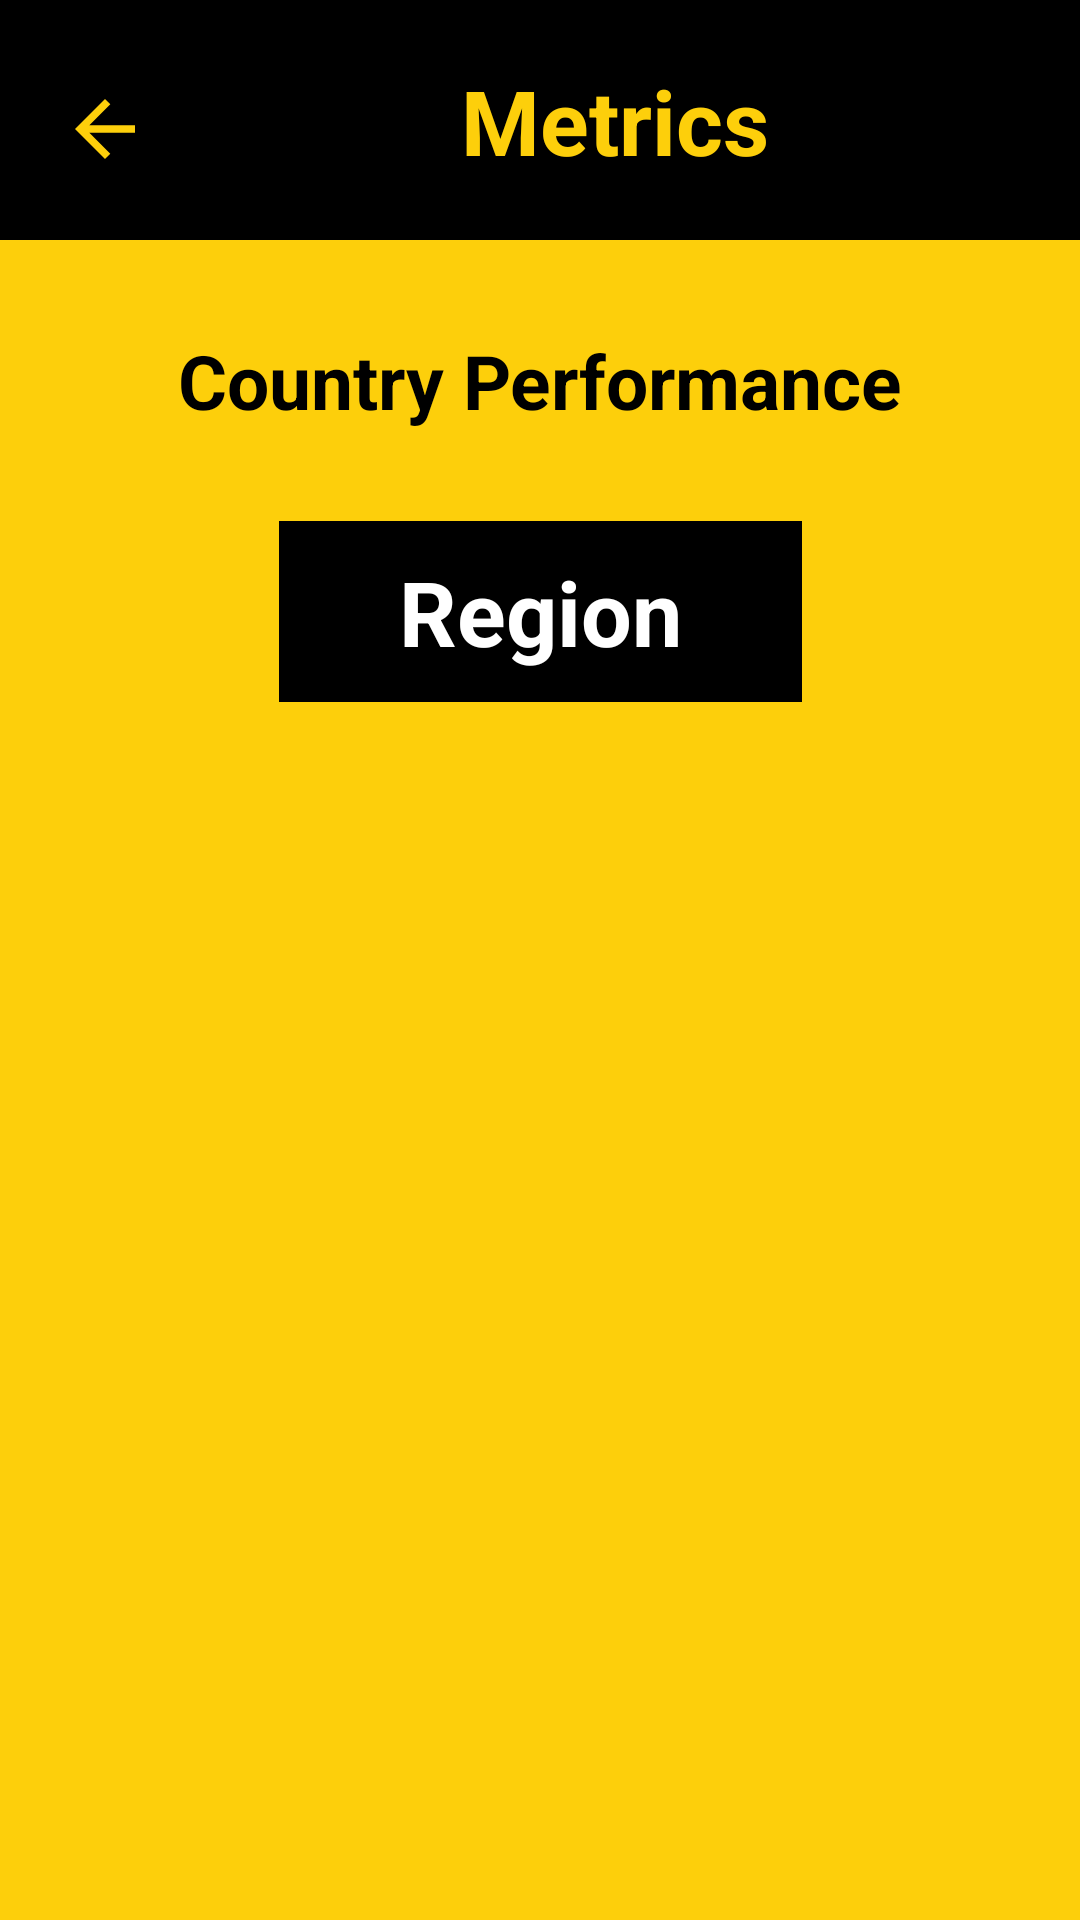

Screen size 1080*1920. Icon name, then its center in pixels as (x,y):
arrow back: (105,129)
